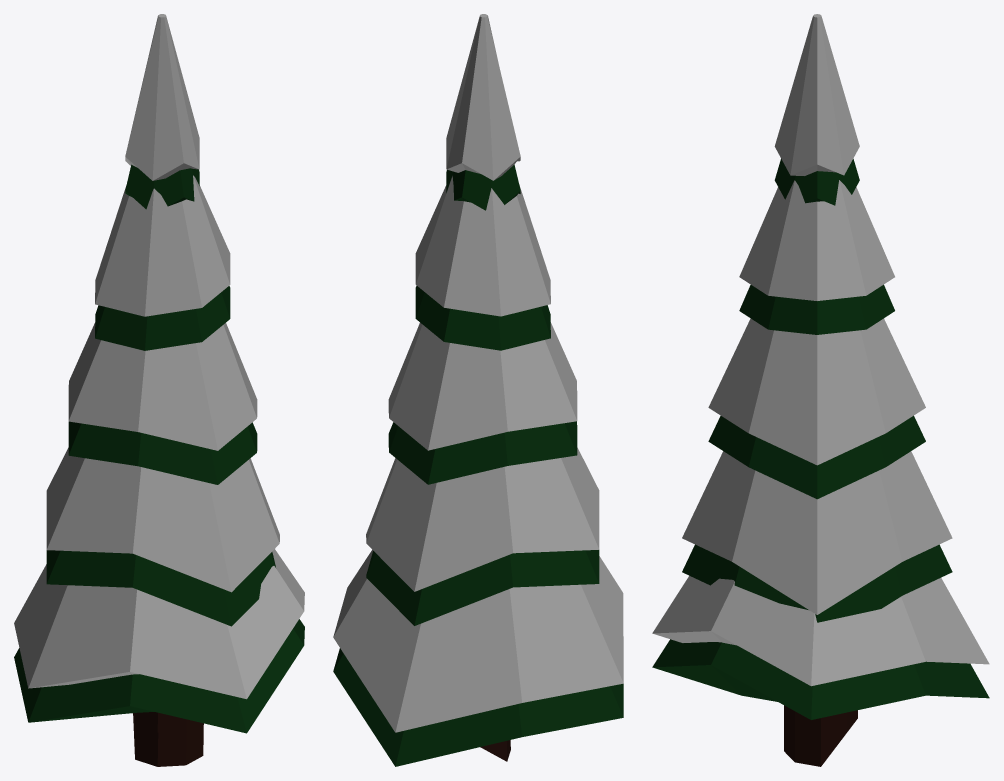
Rendered from abrenevat.obj.
The picture shows the model from 3 angles, left to right: view 1: azimuth 30°, elevation 25°; view 2: azimuth 150°, elevation 25°; view 3: azimuth 270°, elevation 25°; orthographic projection.
Visible parts, largest first — view 1: Cylinder; view 2: Cylinder; view 3: Cylinder.
Boxes of the visible parts, bbox=[...] form: Cylinder: bbox=[14, 14, 304, 766]; Cylinder: bbox=[333, 14, 623, 766]; Cylinder: bbox=[652, 14, 989, 766].
Bounding box in the file's own units: 2.5 × 6.37 × 2.66.
